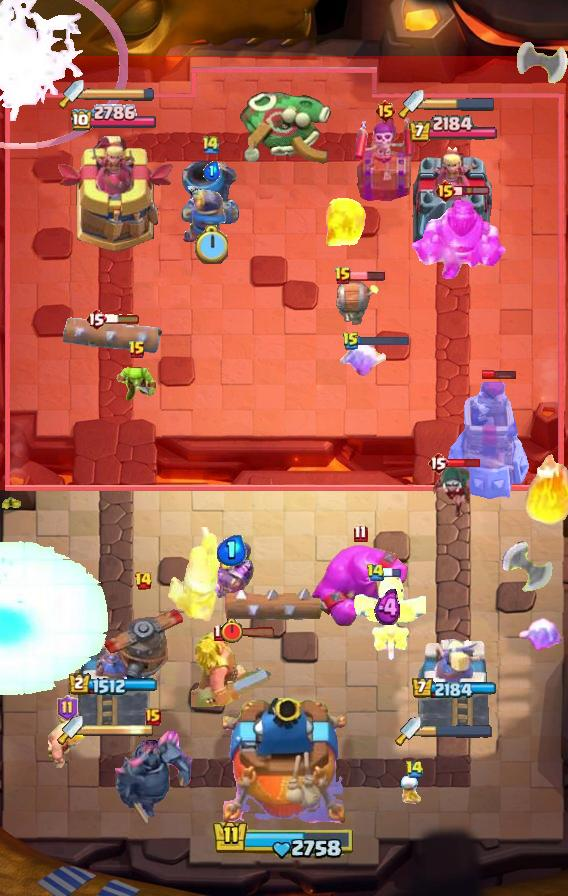archer: (46, 712, 88, 768)
bar: (52, 132, 176, 256), (409, 142, 497, 256), (75, 623, 153, 731), (416, 637, 490, 731)
barbarian-evolution: (0, 0, 128, 150)
clock: (212, 819, 356, 861)
clone: (311, 543, 409, 629)
dark-prince: (98, 596, 188, 682)
electro-spirit: (374, 589, 403, 627), (217, 534, 247, 565), (203, 161, 220, 181)
elixir: (194, 224, 228, 263), (220, 618, 244, 644)
emote: (358, 333, 410, 346), (225, 626, 277, 637), (454, 185, 491, 197), (350, 270, 386, 282), (105, 313, 141, 325), (446, 457, 481, 469), (483, 369, 518, 380), (383, 566, 402, 578)
firecracker: (165, 527, 221, 624), (182, 186, 226, 251)
firecracker-evolution: (210, 539, 255, 602)
goblin-hut: (191, 629, 273, 707)
golemite: (111, 728, 195, 826)
heal-spirit: (399, 775, 429, 807)
king-tower: (223, 698, 345, 826)
king-tower-bar: (84, 87, 156, 101), (424, 97, 496, 111), (83, 723, 155, 737), (421, 724, 493, 738)
knight: (333, 281, 381, 325)
mega-knight: (0, 537, 112, 699)
mini-pekka: (350, 574, 426, 664)
minion: (223, 584, 323, 626), (63, 317, 163, 353)
mirror: (340, 340, 390, 378), (517, 618, 567, 656)
musketeer: (181, 160, 241, 224)
royal-giant: (496, 541, 554, 603), (516, 42, 568, 102)
royal-guardian: (410, 188, 508, 282)
selected: (409, 115, 500, 144), (70, 103, 158, 132), (69, 672, 159, 696), (412, 678, 497, 700)
skeleton-king-bar: (354, 115, 416, 201)
tesla: (430, 465, 474, 521)
text: (374, 99, 397, 123), (434, 179, 457, 203), (57, 695, 78, 721), (85, 307, 107, 331), (427, 451, 449, 475), (201, 133, 221, 154), (134, 571, 154, 591), (334, 266, 352, 286), (342, 331, 360, 351), (128, 340, 146, 360), (367, 563, 386, 581), (404, 761, 423, 779), (145, 708, 161, 726), (353, 525, 367, 543), (213, 623, 227, 641)
valkyrie: (522, 440, 568, 530), (323, 192, 369, 250)
zap: (116, 365, 158, 405)
zappy: (446, 379, 531, 503)
